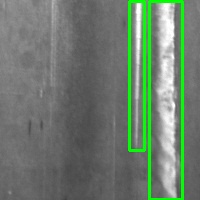scratches: (149, 1, 182, 199), (129, 1, 144, 150)
